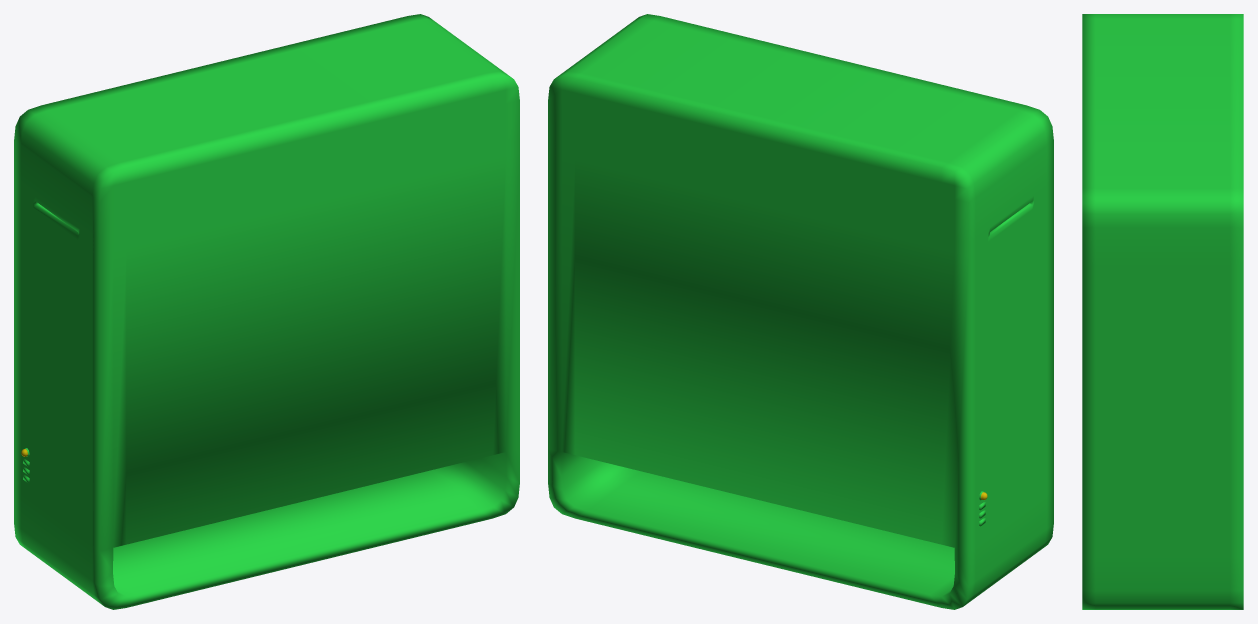
Rendered from MOD_ELE_CPU_case_01.fbx.
The picture shows the model from 3 angles, left to right: view 1: azimuth 30°, elevation 25°; view 2: azimuth 150°, elevation 25°; view 3: azimuth 270°, elevation 25°; orthographic projection. The views are drawn at different scales.
Visible parts, largest first — view 1: HSHP_MOD_CPU_case; view 2: HSHP_MOD_CPU_case; view 3: HSHP_MOD_CPU_case.
Part boxes in pixels (bbox=[...]): HSHP_MOD_CPU_case: bbox=[14, 14, 519, 609]; HSHP_MOD_CPU_case: bbox=[548, 14, 1053, 609]; HSHP_MOD_CPU_case: bbox=[1082, 14, 1243, 609].
Size of the model in its own units: 0.746 by 0.736 by 0.2587.
